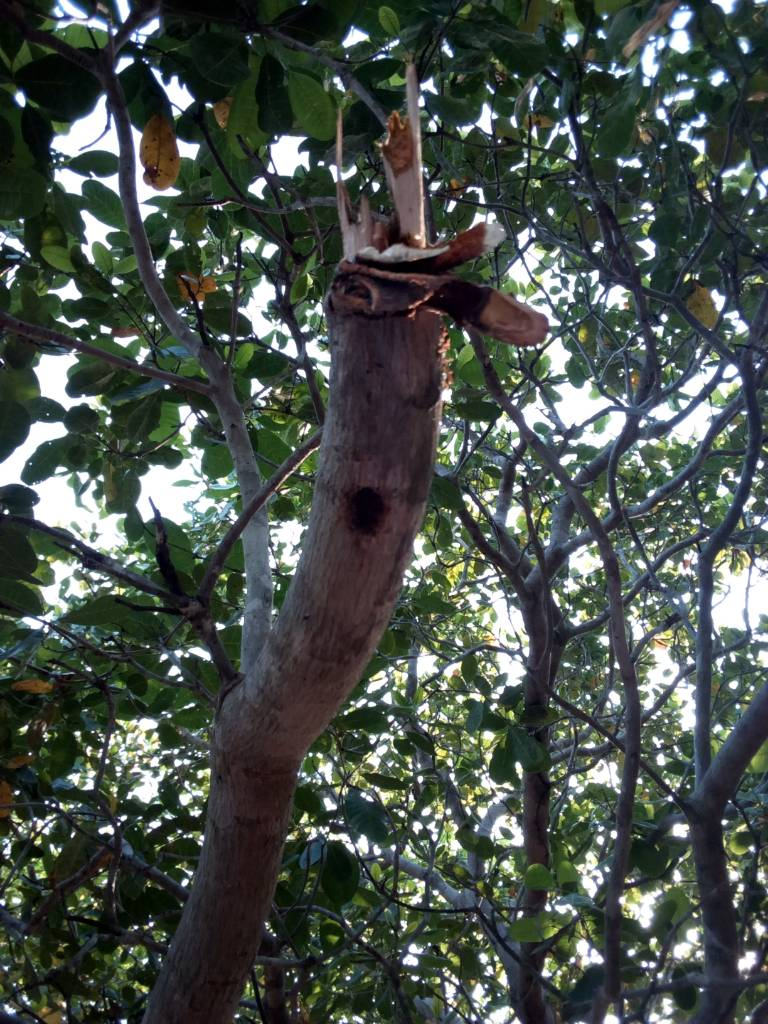Apate terebrans: (315, 472, 426, 553)
